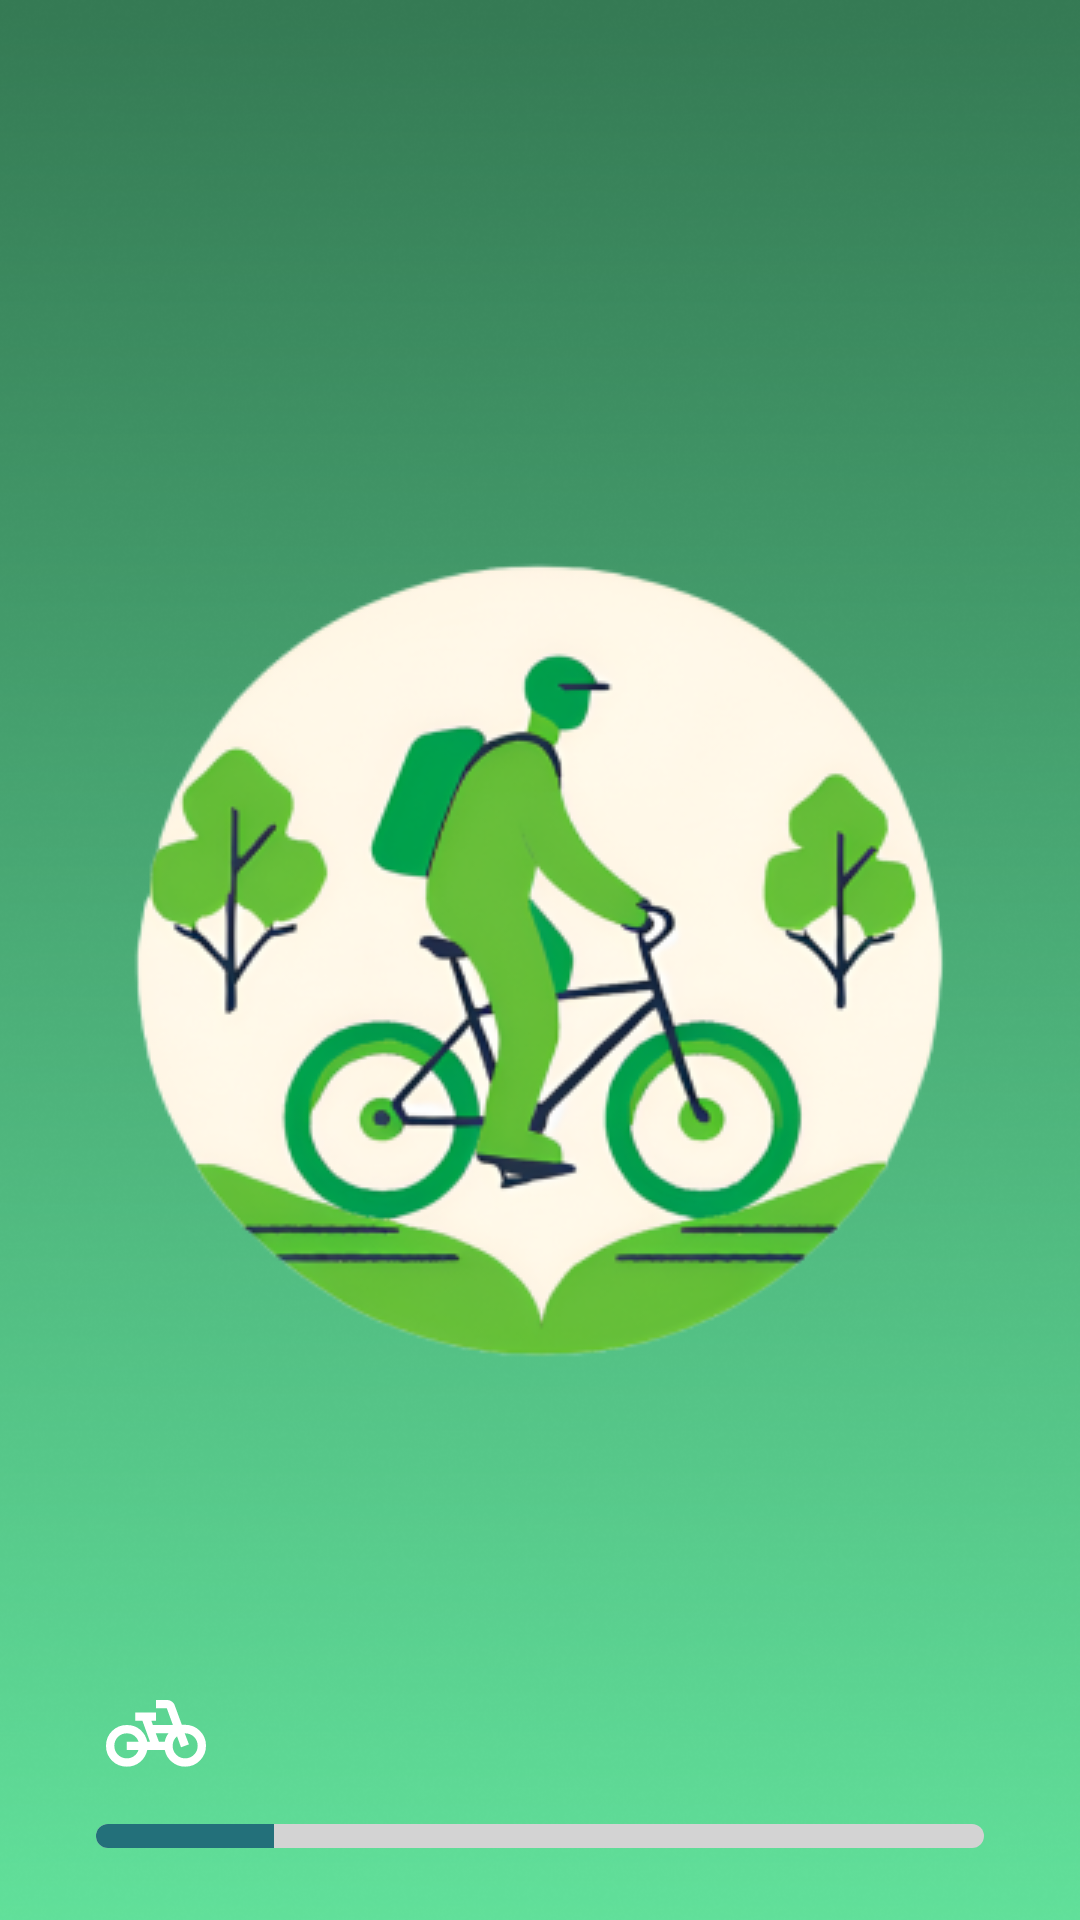

Named icons in this screenshot (1080 × 1920) and their bounding boxes, (x1, y1, x2, y2):
bike: (106, 1700, 206, 1767)
